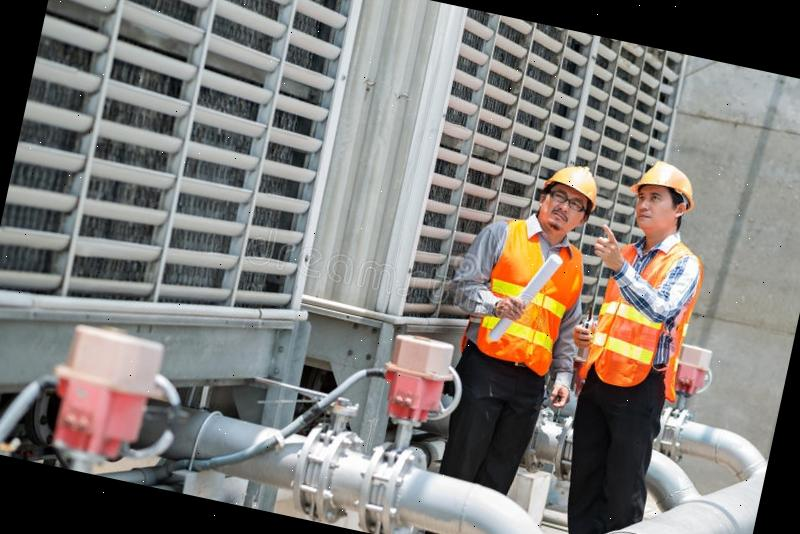helmet: (628, 155, 704, 209), (542, 160, 609, 208)
wear: (456, 222, 594, 378), (582, 237, 706, 398)
